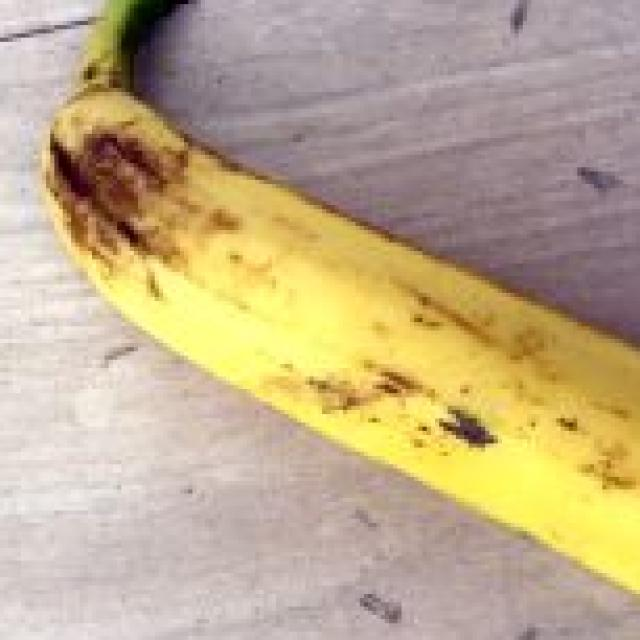Good_Banana-2-3 days: (44, 0, 640, 596)
